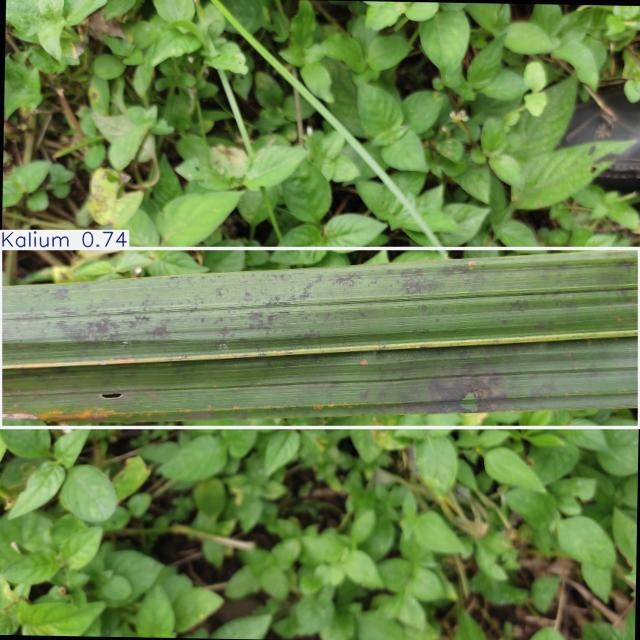Kalium: (0, 248, 639, 428)
